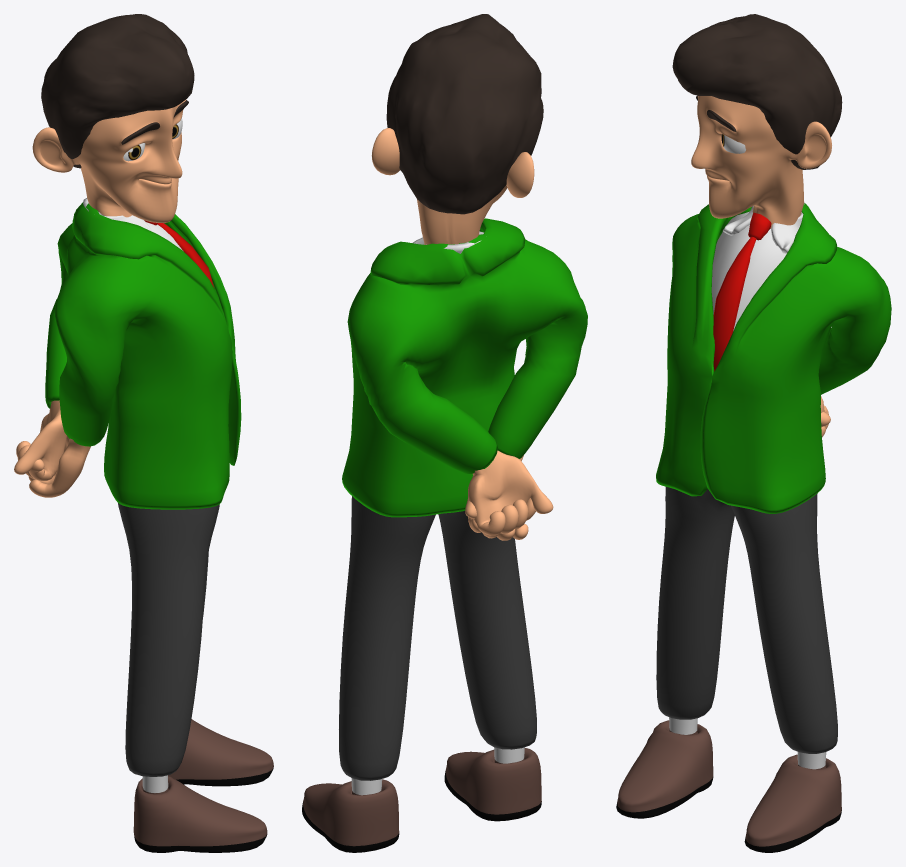
The model's file is roger.glb.
3 renders of one model, left to right at view 1: azimuth 30°, elevation 25°; view 2: azimuth 150°, elevation 25°; view 3: azimuth 270°, elevation 25°, orthographic. The views are drawn at different scales.
Parts seen in each view (by area): view 1: Cube, Cube.002, Sphere.001, cabeça, cabeça.002, Cube.004; view 2: Cube, Cube.002, Sphere.001, cabeça.002, cabeça; view 3: Cube, Cube.002, Sphere.001, cabeça, Cube.001, Cube.004, cabeça.001.
Boxes of the visible parts, box(x1,y1,x2,y2) form: Cube: box(45, 202, 241, 509); Cube.002: box(118, 503, 273, 852); Sphere.001: box(41, 14, 194, 168); cabeça: box(32, 99, 188, 222); cabeça.002: box(14, 400, 90, 497); Cube.004: box(144, 220, 213, 287); Cube: box(342, 218, 587, 517); Cube.002: box(302, 496, 541, 852); Sphere.001: box(386, 14, 543, 214); cabeça.002: box(465, 450, 553, 540); cabeça: box(371, 128, 534, 244); Cube: box(656, 203, 891, 513); Cube.002: box(616, 487, 841, 852); Sphere.001: box(672, 14, 842, 169); cabeça: box(691, 95, 831, 228); Cube.001: box(711, 211, 786, 330); Cube.004: box(713, 212, 771, 371); cabeça.001: box(723, 203, 804, 253).
Size of the model in its own units: 0.7446 by 2.26 by 0.7411.
13 materials, 1 textured.
